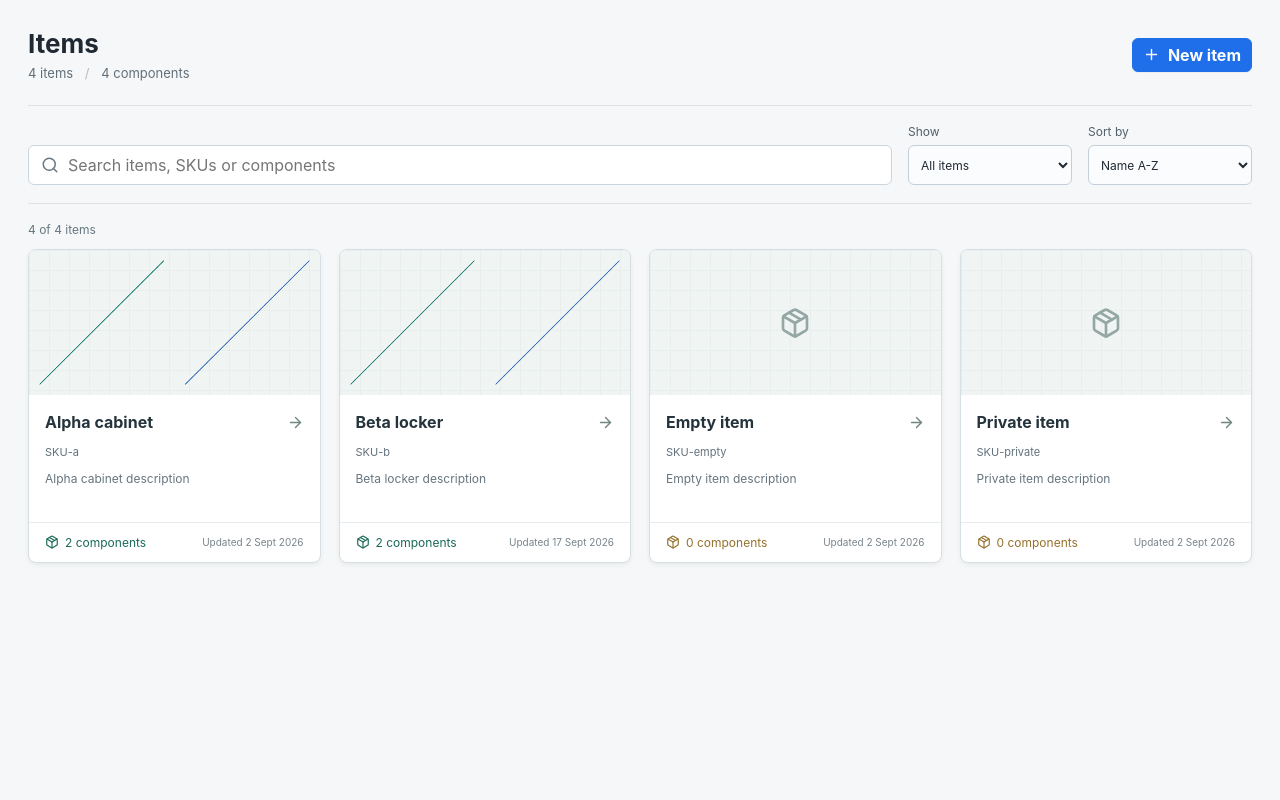
Scenario: item library grid › shows the shared library and searches names, SKUs and component files
Expected: the number of buttons named "Open " is 4, left=28, top=249, right=320, bottom=563; left=338, top=249, right=631, bottom=563; left=649, top=249, right=942, bottom=563; left=960, top=249, right=1252, bottom=563
Expected: the heading "Private item" is shown, left=976, top=411, right=1070, bottom=434
Type "side panel.nc" into the field labelled "Search items" at (474, 165), box left=68, top=150, right=879, bottom=180
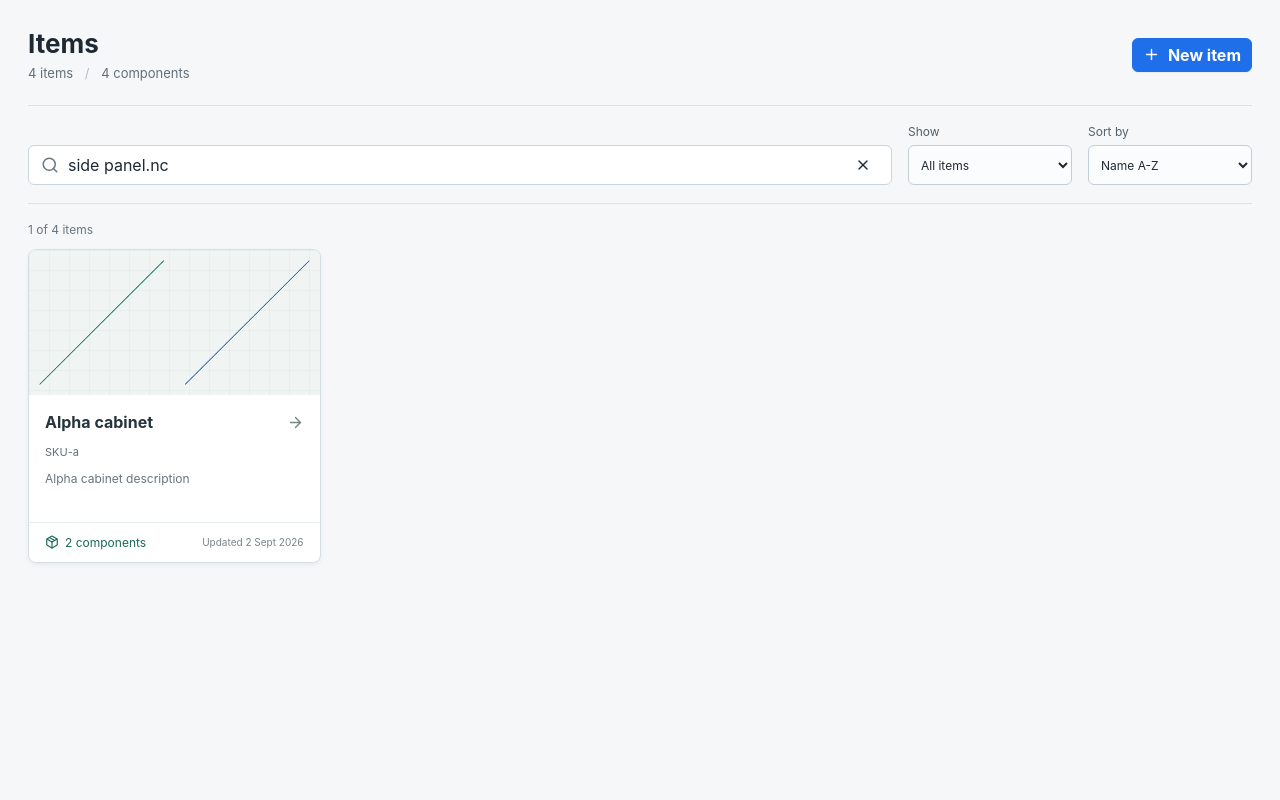
Expected: the button with aria-label "Open Alpha cabinet" is shown, left=28, top=249, right=320, bottom=563
Replace the text in the field named "Search items" with "SKU-b" at (453, 165), box left=68, top=150, right=838, bottom=180
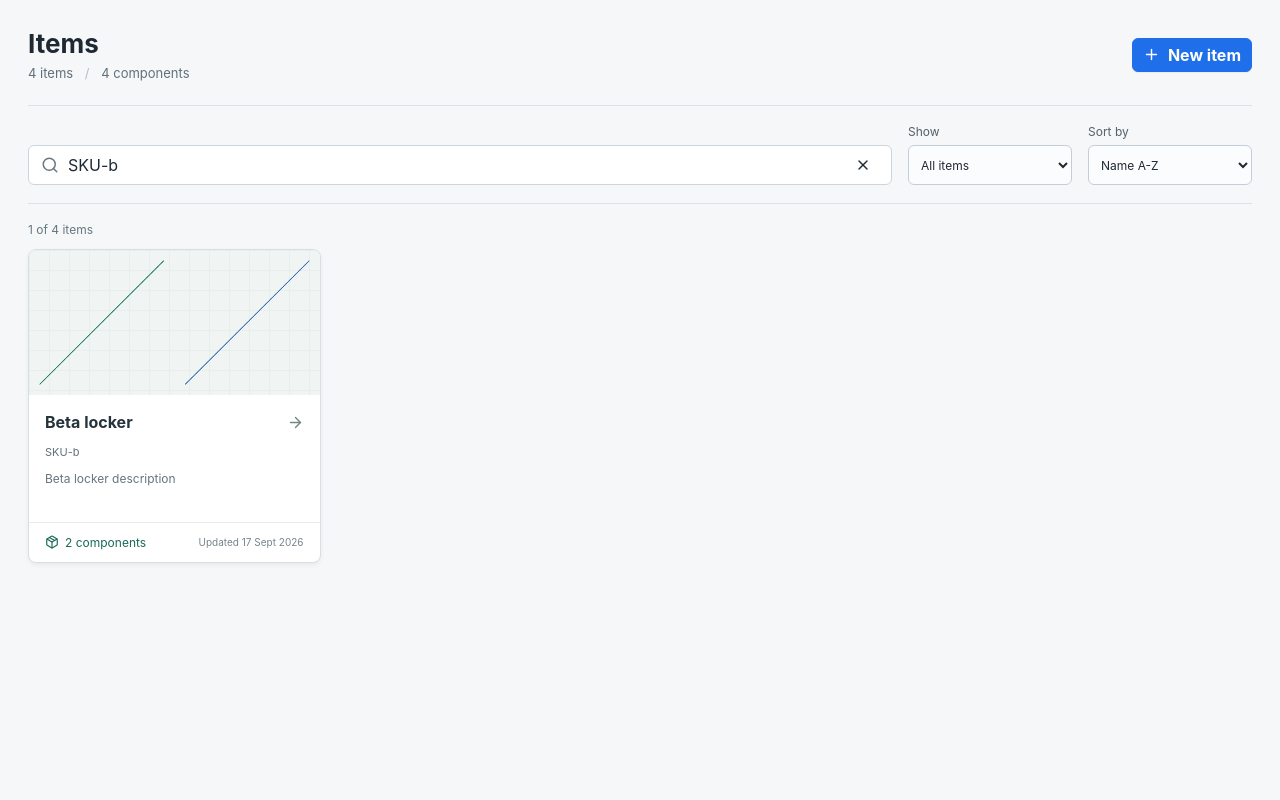
Expected: the button with aria-label "Open Beta locker" is shown, left=28, top=249, right=320, bottom=563
Replace the text in the field named "Search items" with "Secret component" at (453, 165), box left=68, top=150, right=838, bottom=180
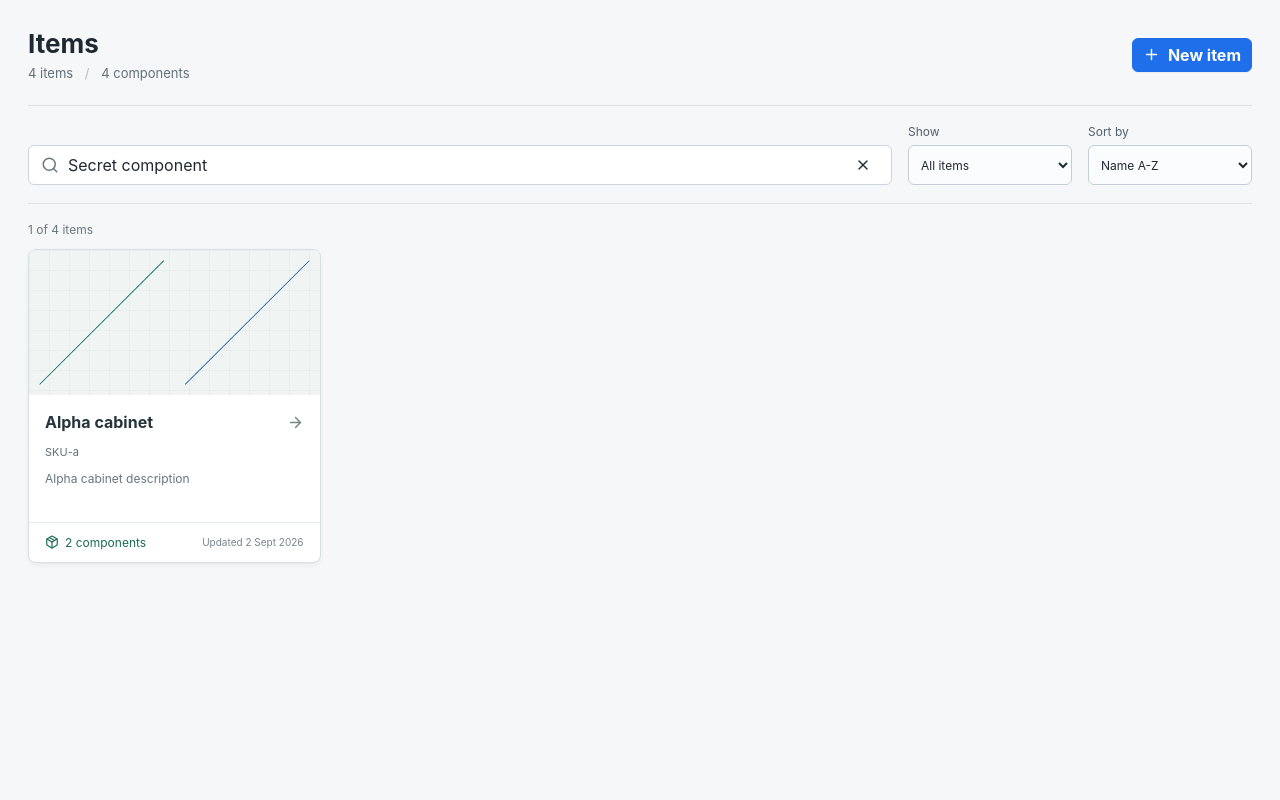
Expected: the button with aria-label "Open Alpha cabinet" is shown, left=28, top=249, right=320, bottom=563
Clear the field named "Search items" at (453, 165), box left=68, top=150, right=838, bottom=180
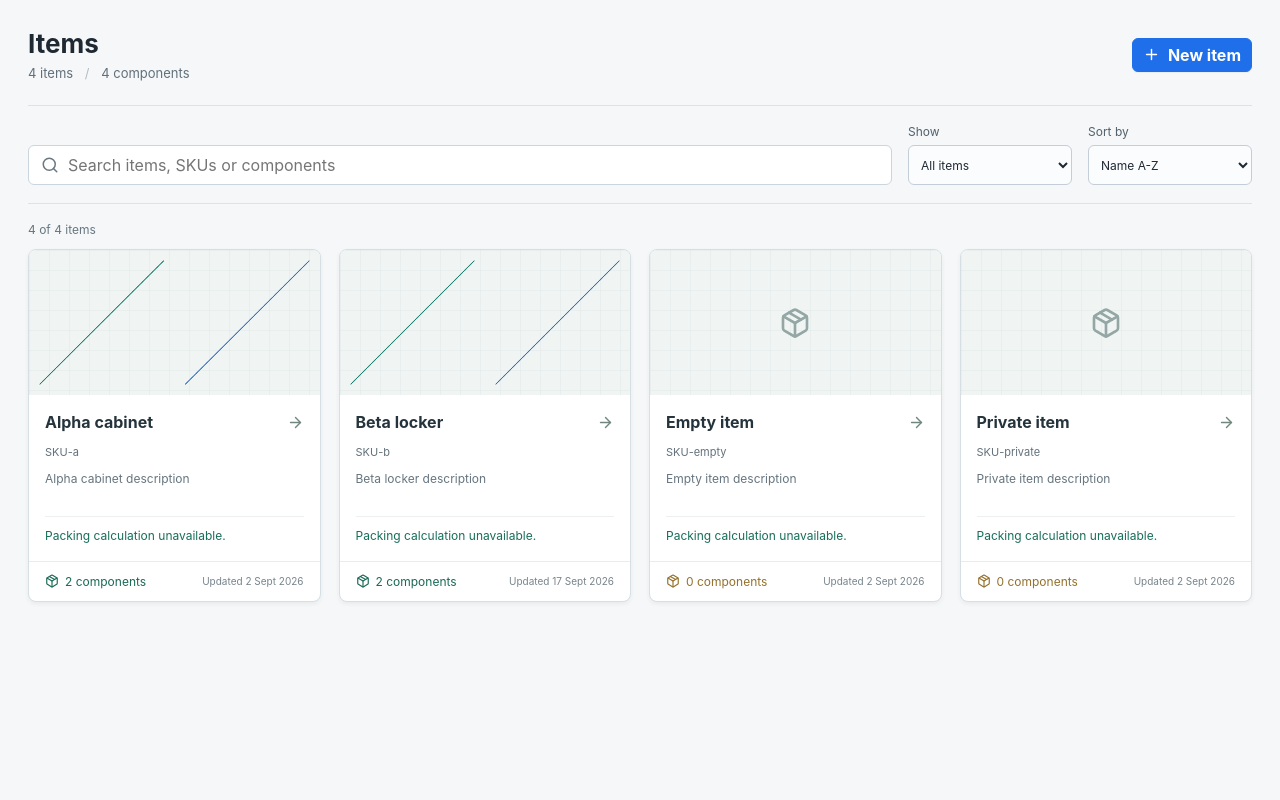
Expected: the number of buttons named "Open " is 4, left=28, top=249, right=320, bottom=602; left=338, top=249, right=631, bottom=602; left=649, top=249, right=942, bottom=602; left=960, top=249, right=1252, bottom=602
